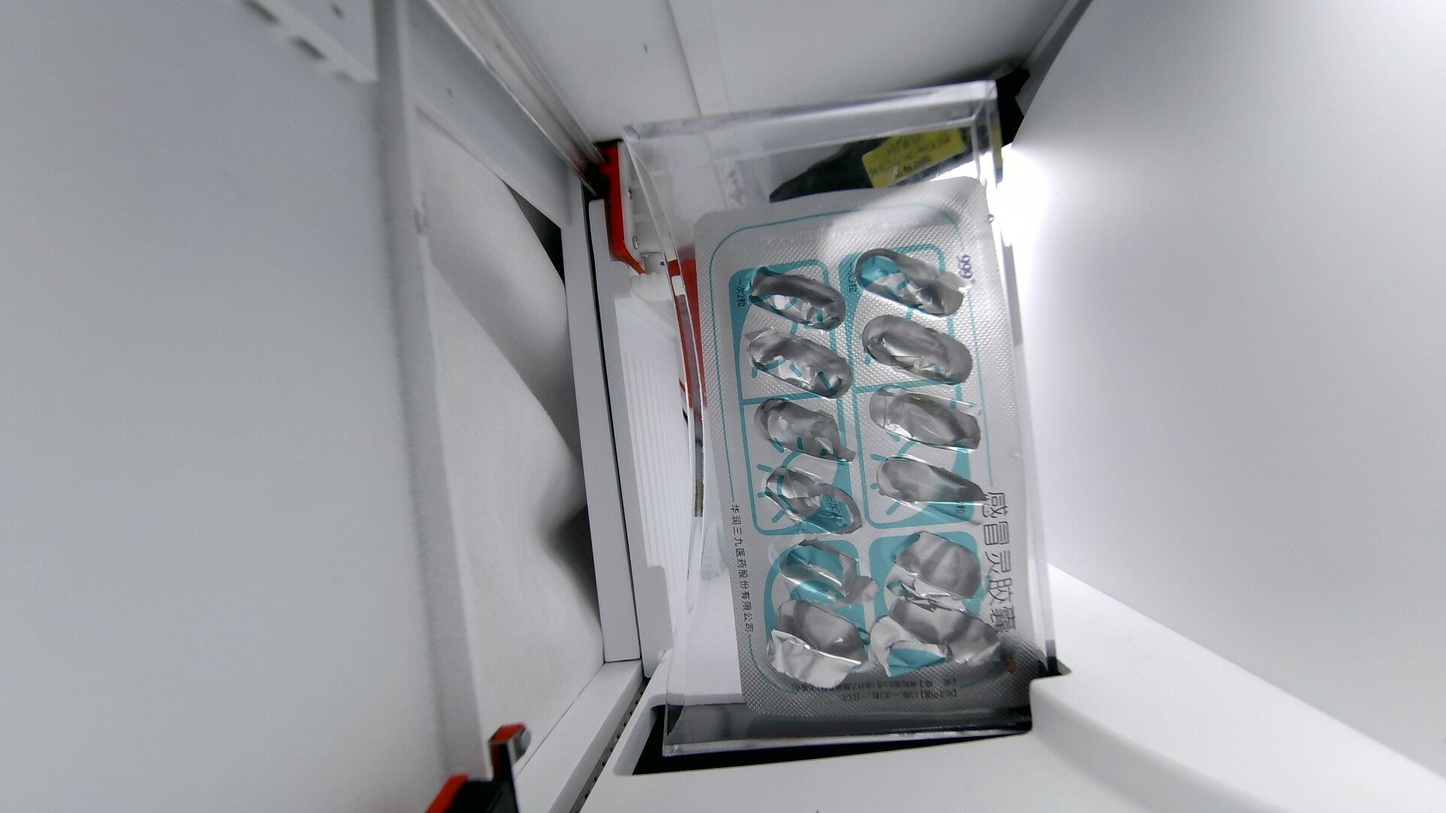No Pill Back: (889, 583, 998, 660), (772, 601, 868, 687), (856, 248, 967, 317), (862, 315, 972, 384), (745, 328, 853, 397), (767, 540, 877, 607), (877, 457, 987, 520), (869, 390, 981, 451), (759, 468, 861, 534), (742, 266, 846, 330), (754, 397, 856, 461), (893, 531, 982, 598)
